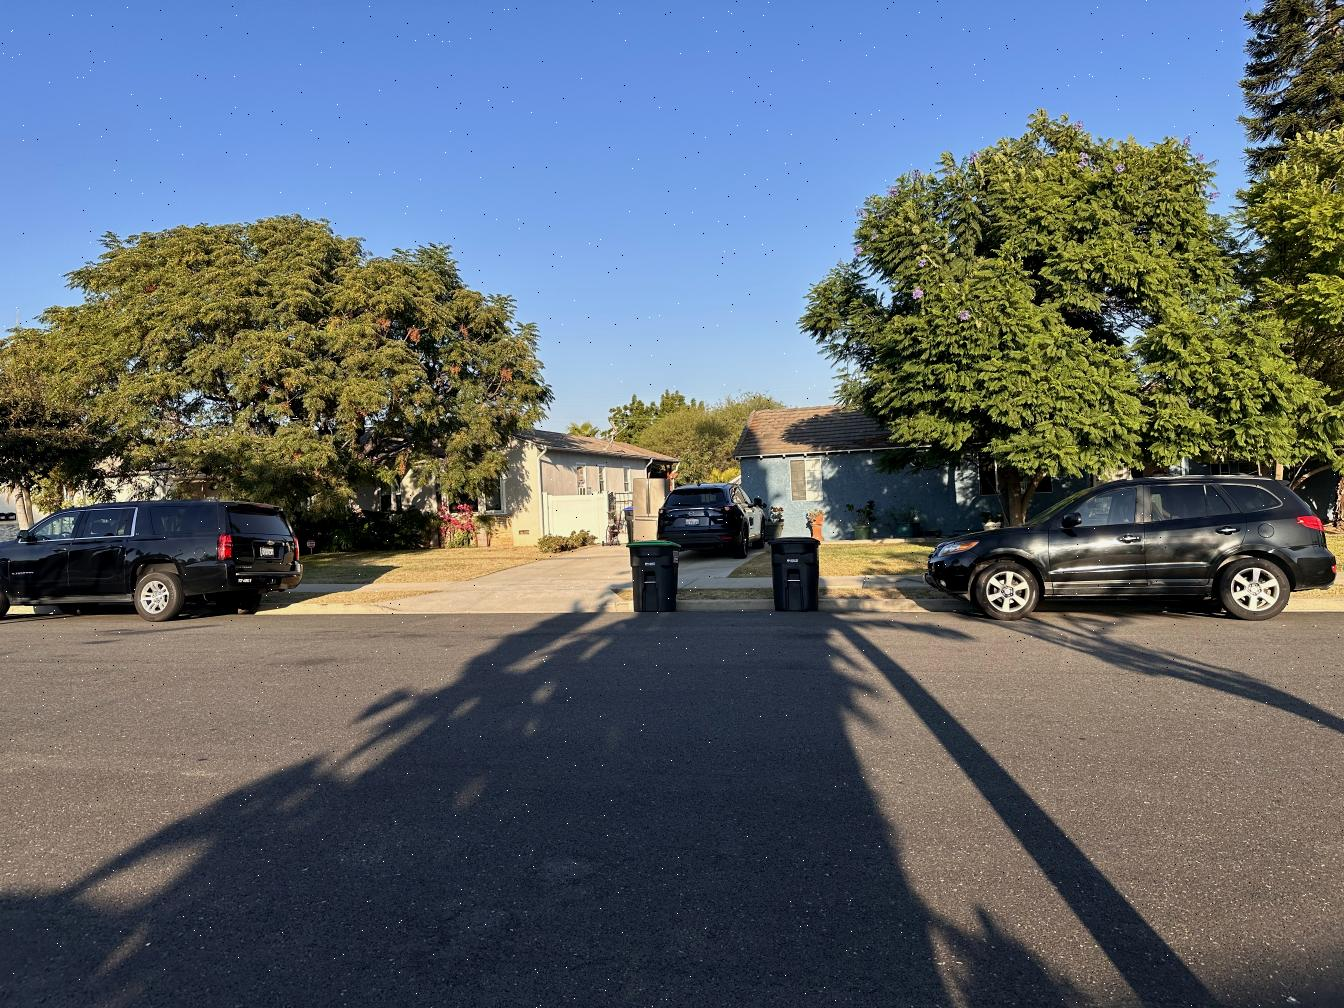curbs-laRr: (827, 597, 952, 613), (680, 598, 773, 613)
